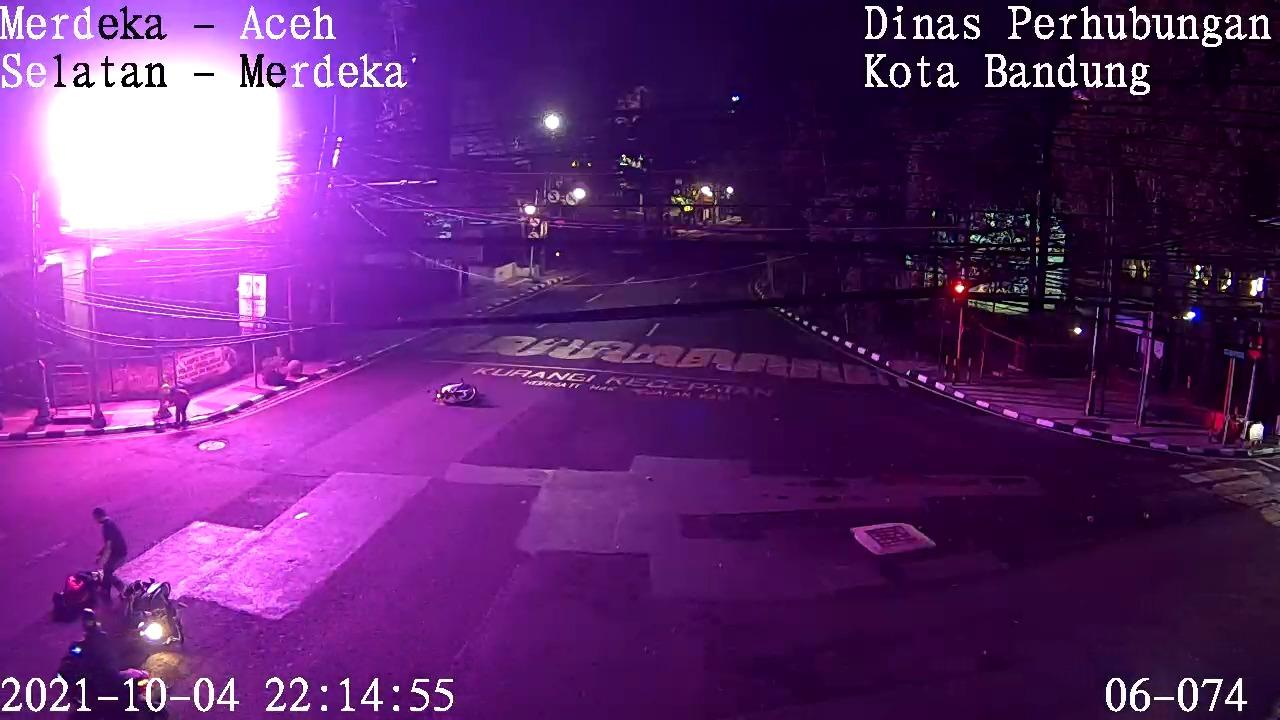accident: (30, 556, 121, 635)
